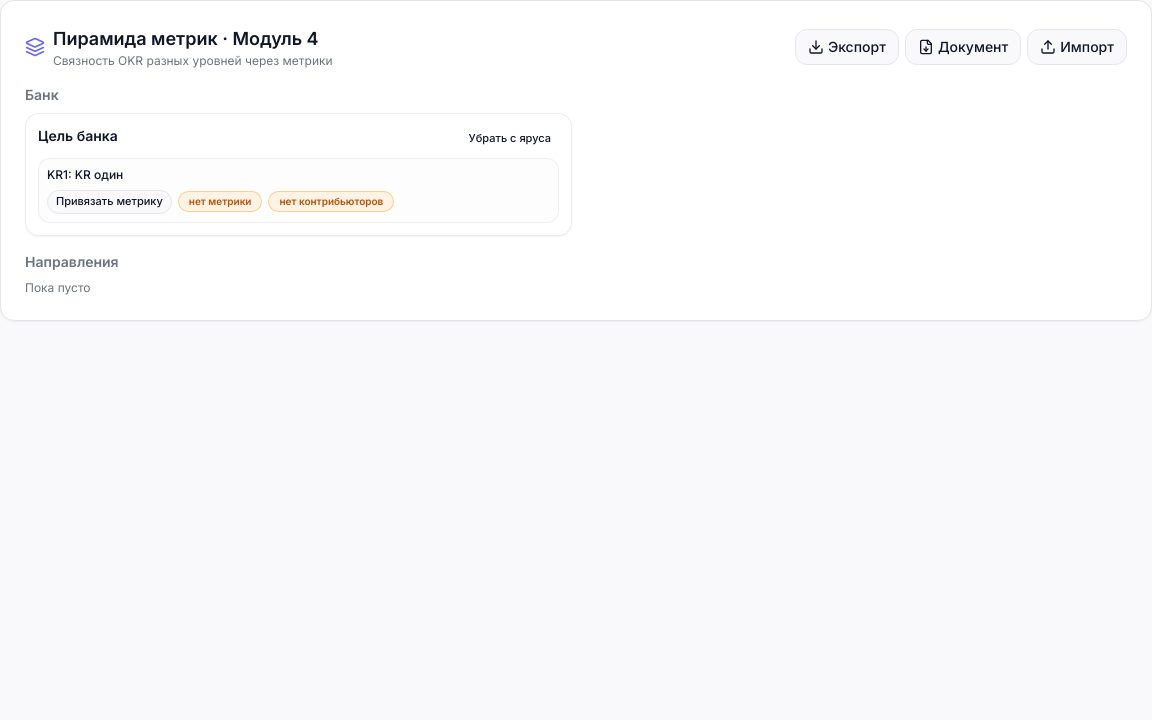
MetricsPyramid › при привязке метрики предлагается значение из kr.metric, пользователь подтверждает
Click the button "Привязать метрику" at (109, 202), box [47, 190, 172, 214]
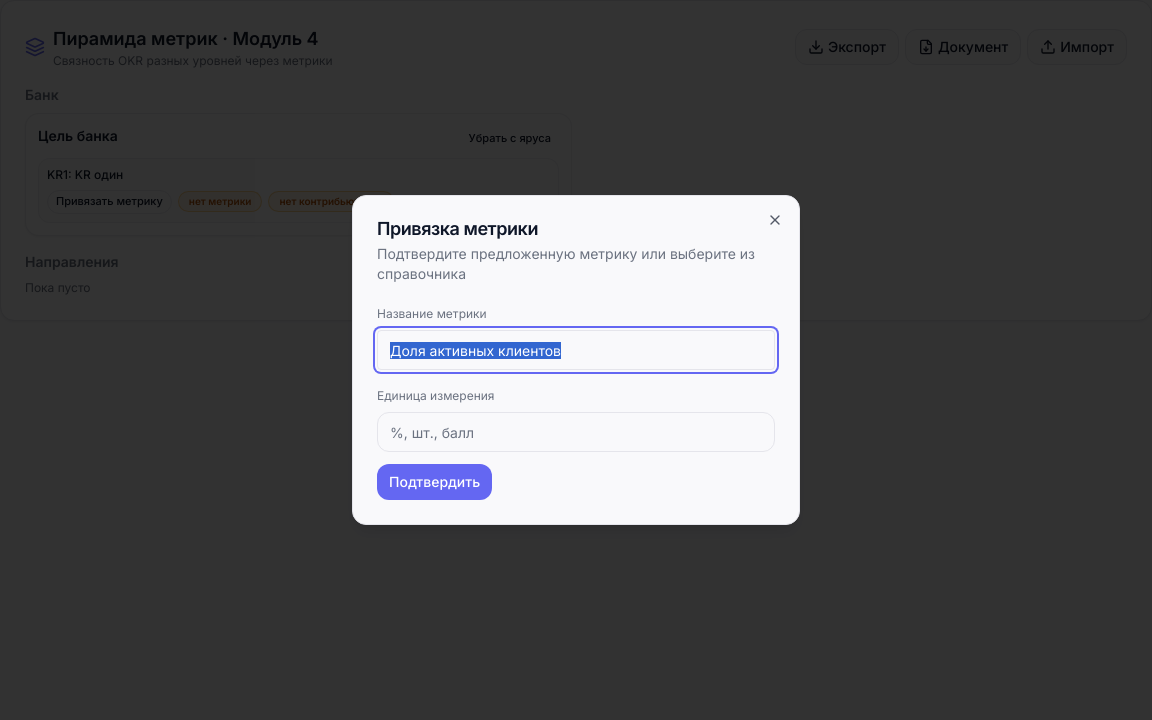
Expected: the field labelled "Название метрики" holds "Доля активных клиентов", [377, 330, 775, 370]
Click the button "Подтвердить" at (435, 482), box [377, 464, 492, 500]
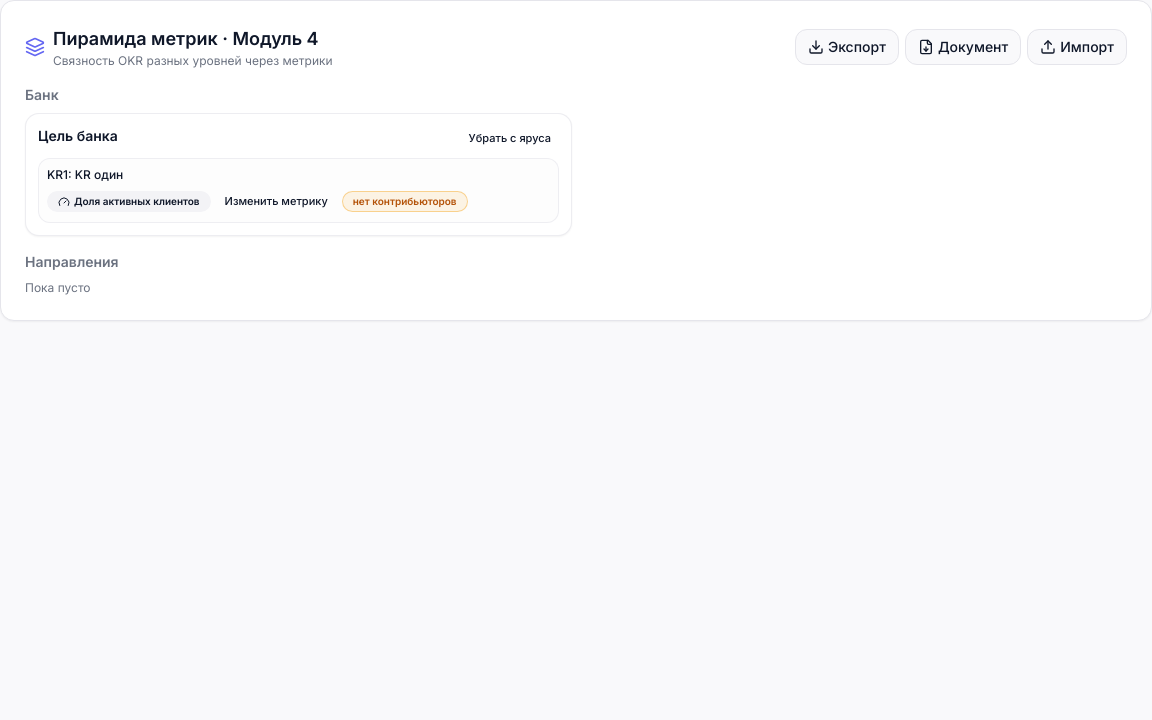
Expected: the text "Доля активных клиентов" is shown, [47, 191, 211, 212]
Expected: the button "Привязать метрику" is gone
